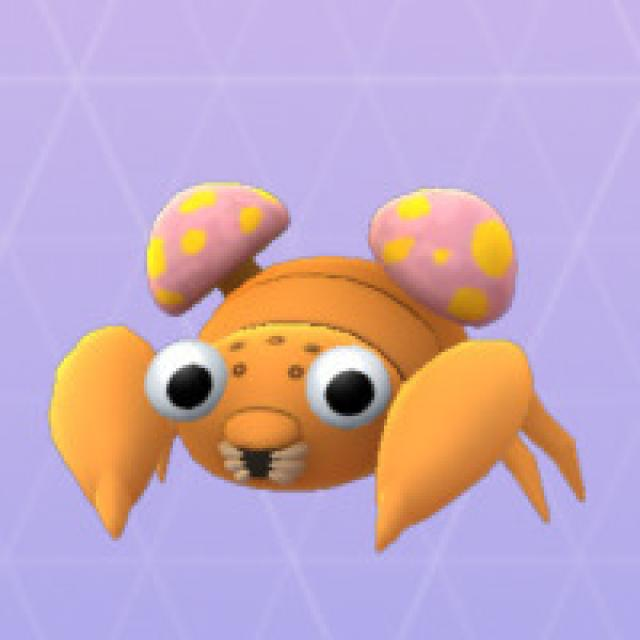Paras: (114, 178, 524, 497)
